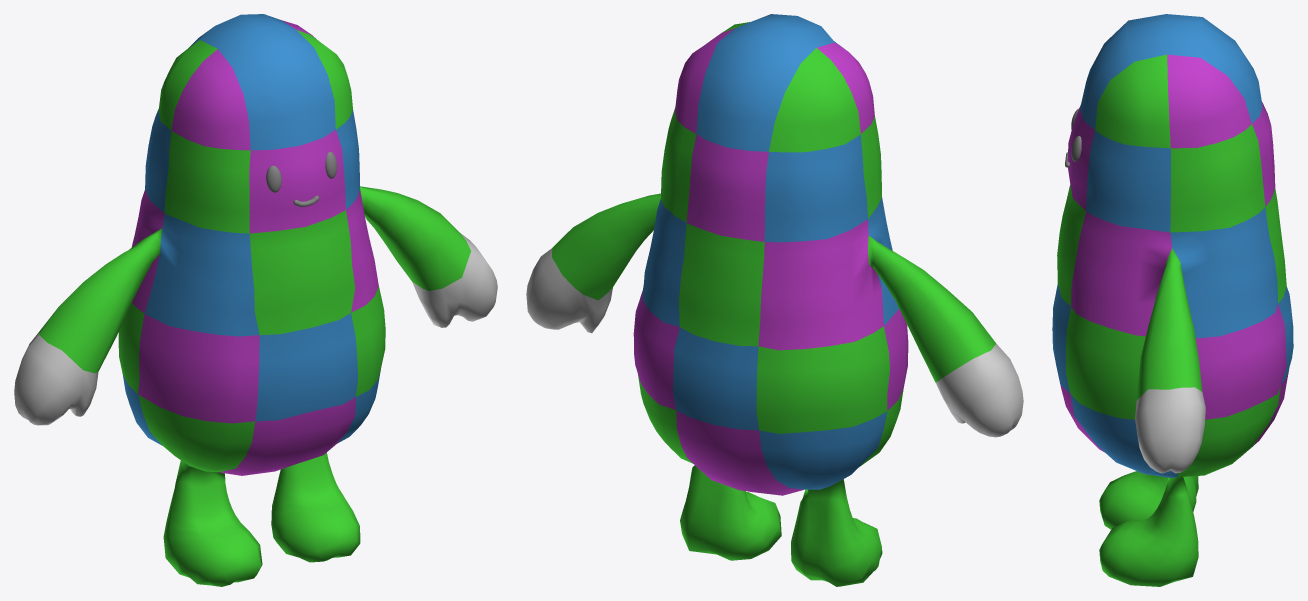
Rendered from Character02.fbx.
The picture shows the model from 3 angles, left to right: view 1: azimuth 30°, elevation 25°; view 2: azimuth 150°, elevation 25°; view 3: azimuth 270°, elevation 25°; orthographic projection. The views are drawn at different scales.
Parts seen in each view (by area): view 1: polySurface1 (×4), UMesh_Stitches; view 2: polySurface1 (×4); view 3: polySurface1 (×4), UMesh_Stitches.
Part boxes in pixels (bbox=[...]): polySurface1 (×4): bbox=[14, 14, 497, 586]; UMesh_Stitches: bbox=[266, 151, 337, 206]; polySurface1 (×4): bbox=[526, 14, 1023, 586]; polySurface1 (×4): bbox=[1052, 14, 1293, 586]; UMesh_Stitches: bbox=[1065, 108, 1081, 167].
Size of the model in its own units: 196 by 211 by 87.15.
